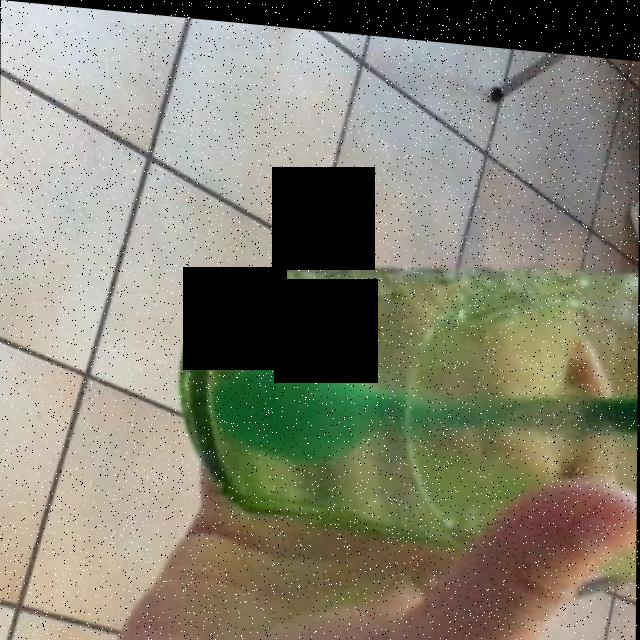glucose-drink-50g: (201, 261, 625, 540)
